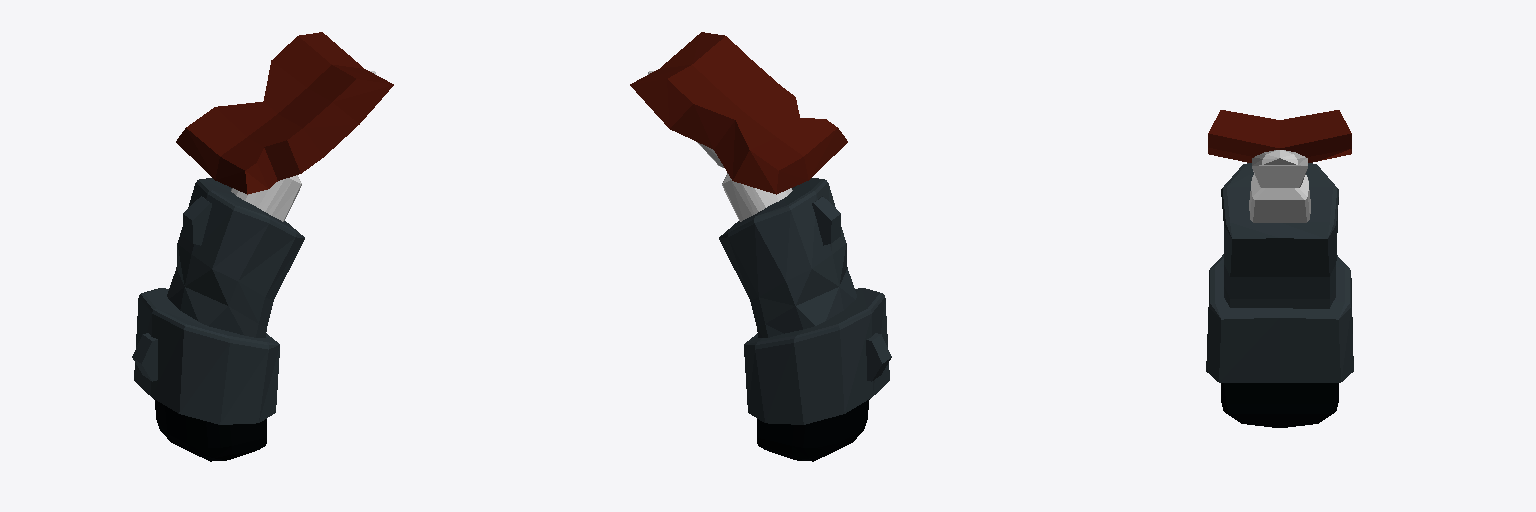
Rendered from character_skeleton_warrior_armRight.obj.
3 renders of one model, left to right at view 1: azimuth 30°, elevation 25°; view 2: azimuth 150°, elevation 25°; view 3: azimuth 270°, elevation 25°, orthographic.
Parts seen in each view (by area): view 1: character_skeleton_warrior_armRight_Cube.7638; view 2: character_skeleton_warrior_armRight_Cube.7638; view 3: character_skeleton_warrior_armRight_Cube.7638.
Part boxes in pixels (bbox=[...]): character_skeleton_warrior_armRight_Cube.7638: bbox=[132, 32, 393, 461]; character_skeleton_warrior_armRight_Cube.7638: bbox=[630, 32, 891, 461]; character_skeleton_warrior_armRight_Cube.7638: bbox=[1206, 110, 1353, 427].
Size of the model in its own units: 0.417 by 0.6061 by 0.224.